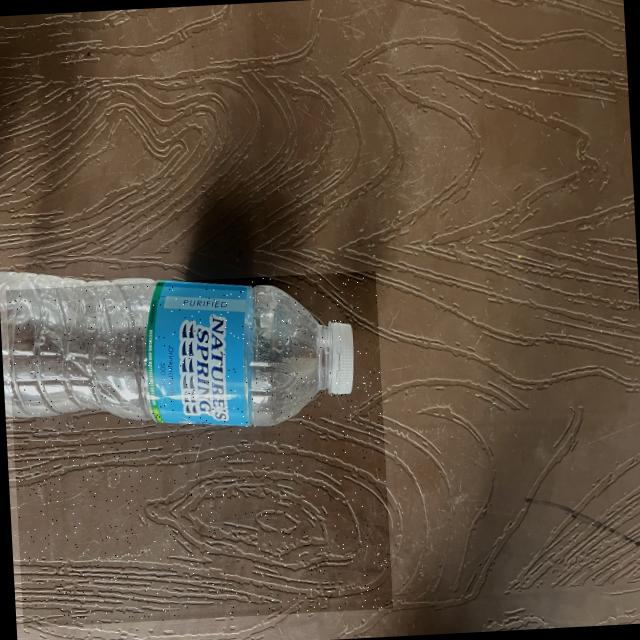REJECT: (5, 271, 392, 628)
